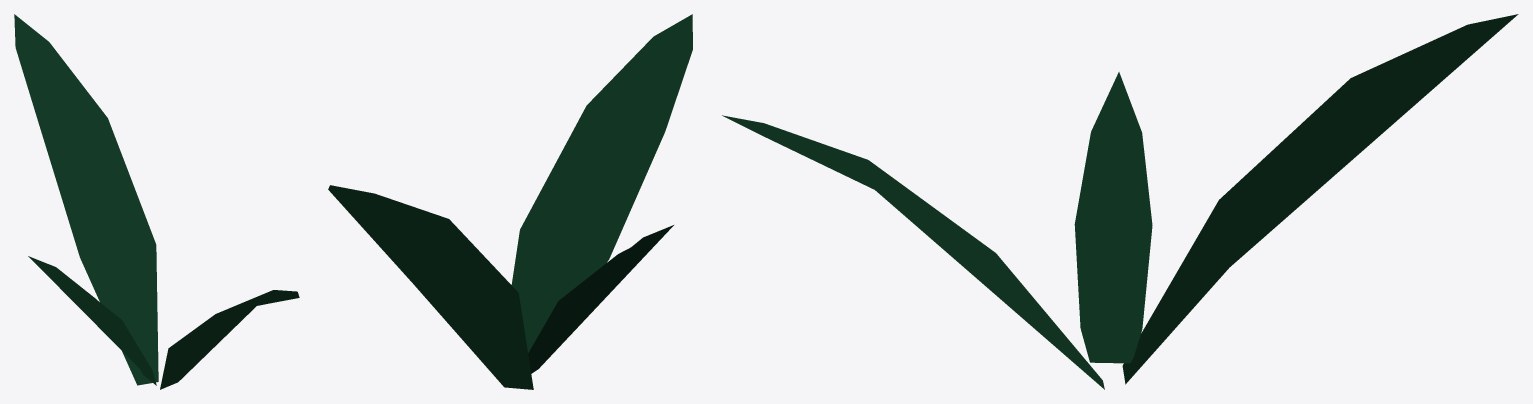
File: Plant3.fbx
The picture shows the model from 3 angles, left to right: view 1: azimuth 30°, elevation 25°; view 2: azimuth 150°, elevation 25°; view 3: azimuth 270°, elevation 25°; orthographic projection. The views are drawn at different scales.
Parts seen in each view (by area): view 1: Plane.001; view 2: Plane.001; view 3: Plane.001.
Part boxes in pixels (left/top/right/bottom): Plane.001: left=14, top=14, right=299, bottom=389; Plane.001: left=328, top=14, right=692, bottom=389; Plane.001: left=722, top=14, right=1518, bottom=389.
Size of the model in its own units: 36.71 by 108 by 55.36.
